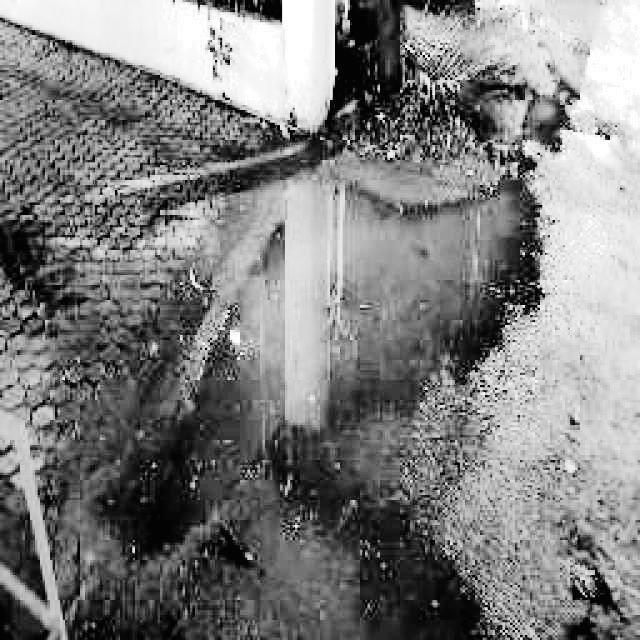Pothole: (124, 64, 628, 562)
